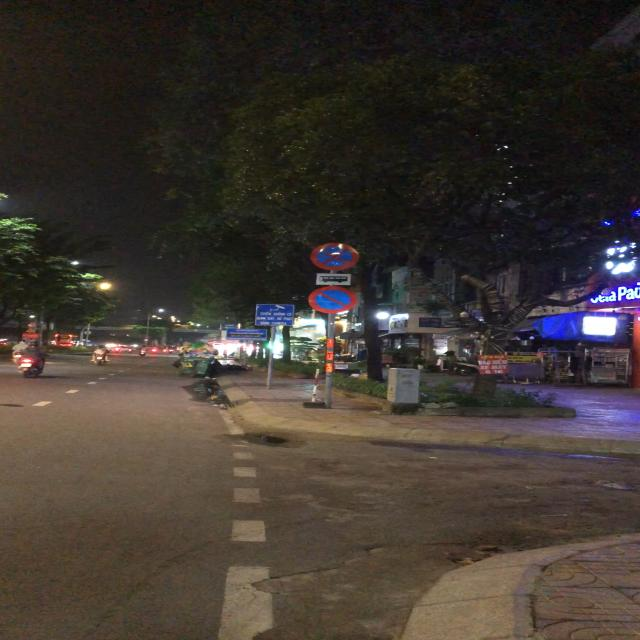Bien bao cam do xe: (306, 284, 359, 315)
Bien bao cam dung xe va do xe: (306, 240, 363, 273)
